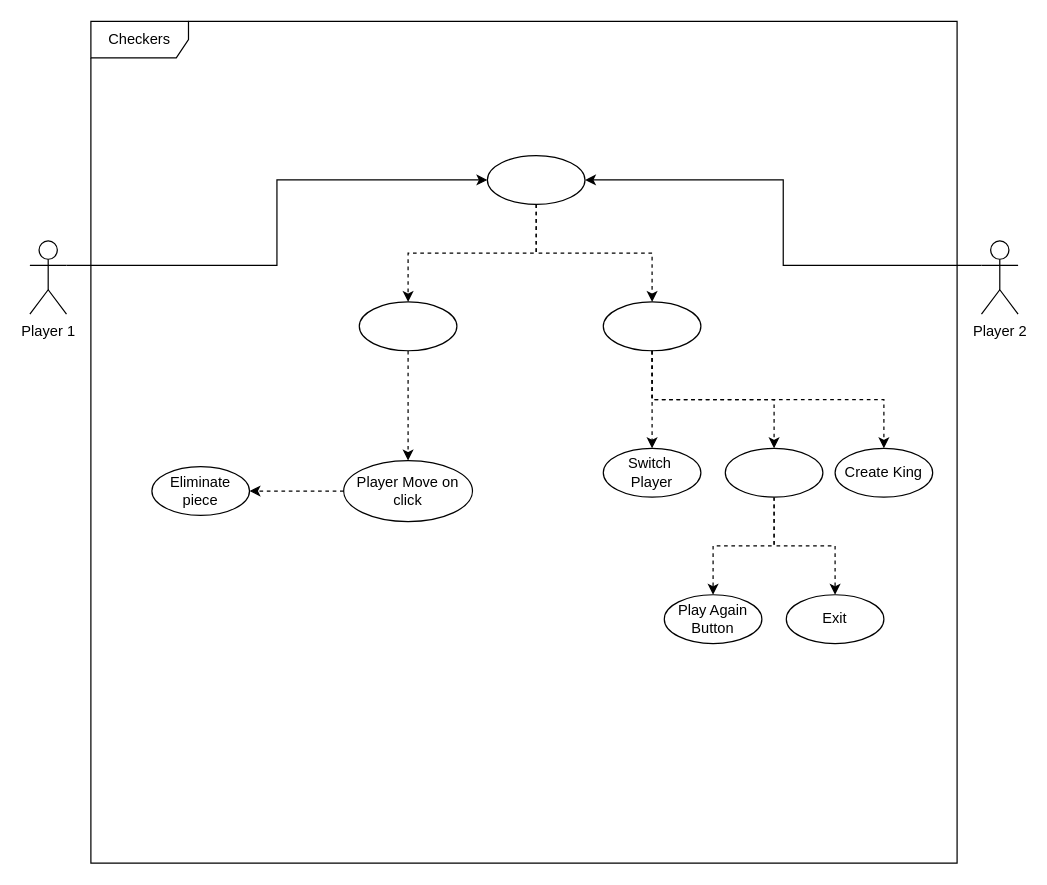
Some shapes in this 1047 by 885 pixel diagram are drawn without their labels. Here are the shapes that lost their labels. From the top down, the centre of each, then its label:
point (535, 179): Checkers Game
point (407, 326): Setup Board
point (651, 326): Game Controller
point (773, 472): End Game
